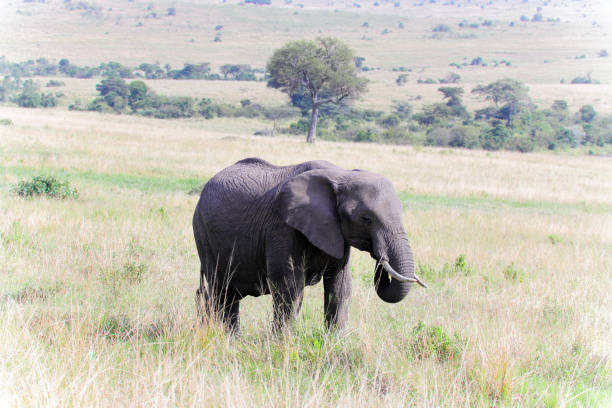africanelephant: (321, 170, 436, 312)
